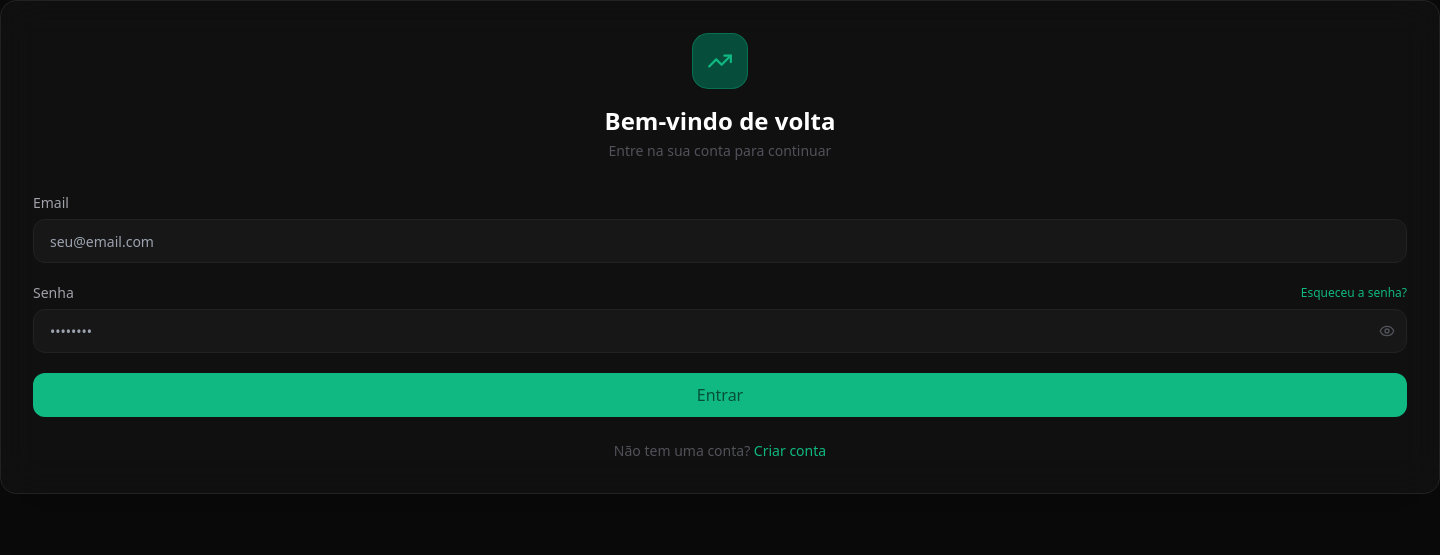
Test: LoginPage › deve mostrar erros de validação com campos vazios
Click the button "Entrar".
click(720, 395)  # box [33,373,1407,417]
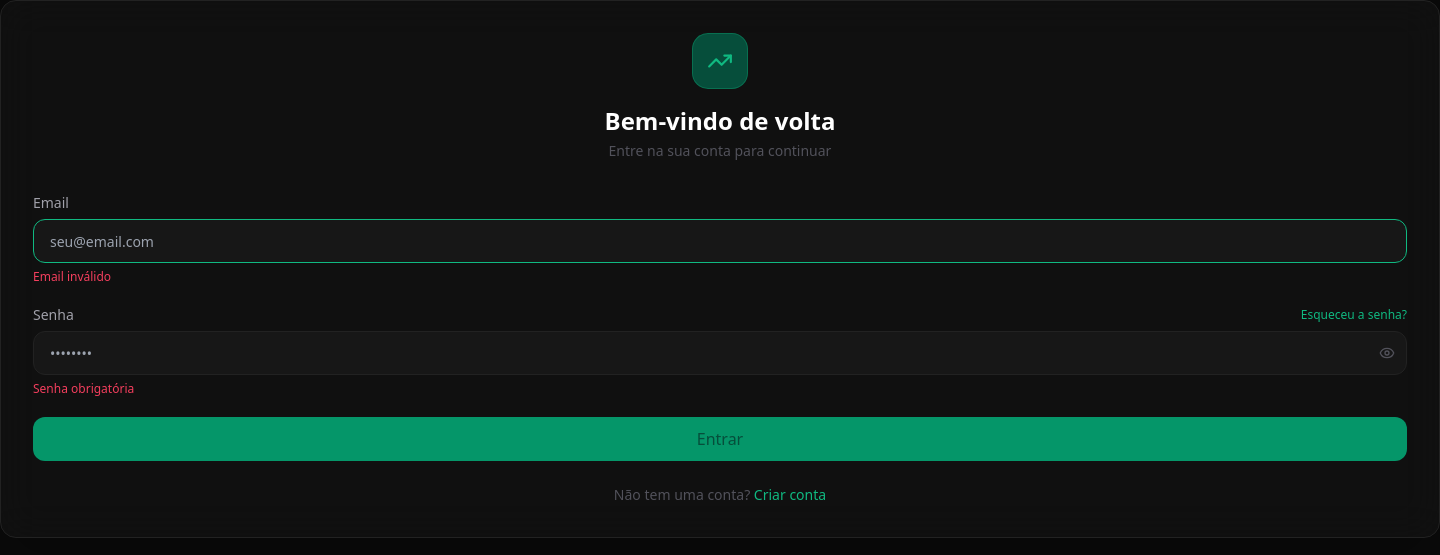
Check: the text "Email inválido" is shown, box [33,268,111,285]
Check: the text "Senha obrigatória" is shown, box [33,380,134,397]
